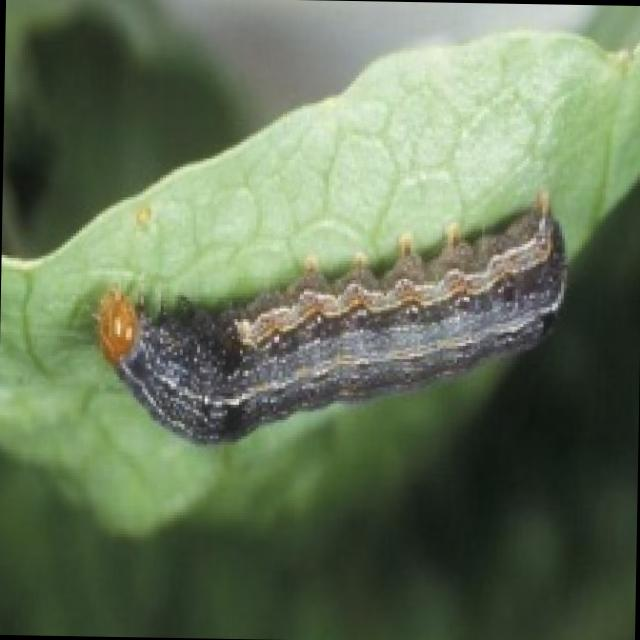armyworm: (71, 189, 601, 464)
